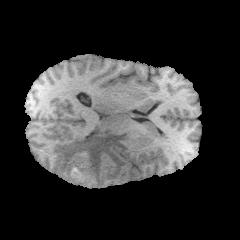glioma: (51, 129, 128, 186)
